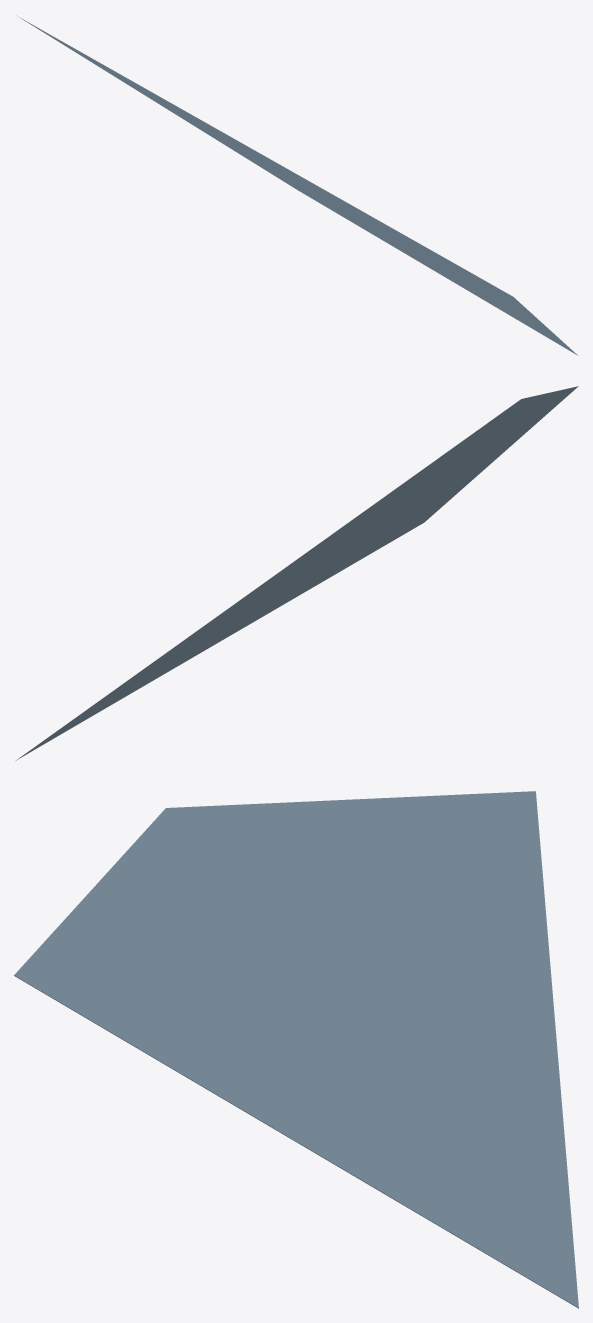
3 views of the same model, one above another, from view 1: azimuth 30°, elevation 25°; view 2: azimuth 150°, elevation 25°; view 3: azimuth 270°, elevation 25° (orthographic). The views are drawn at different scales.
Size of the model in its own units: 594 by 466 by 735.
